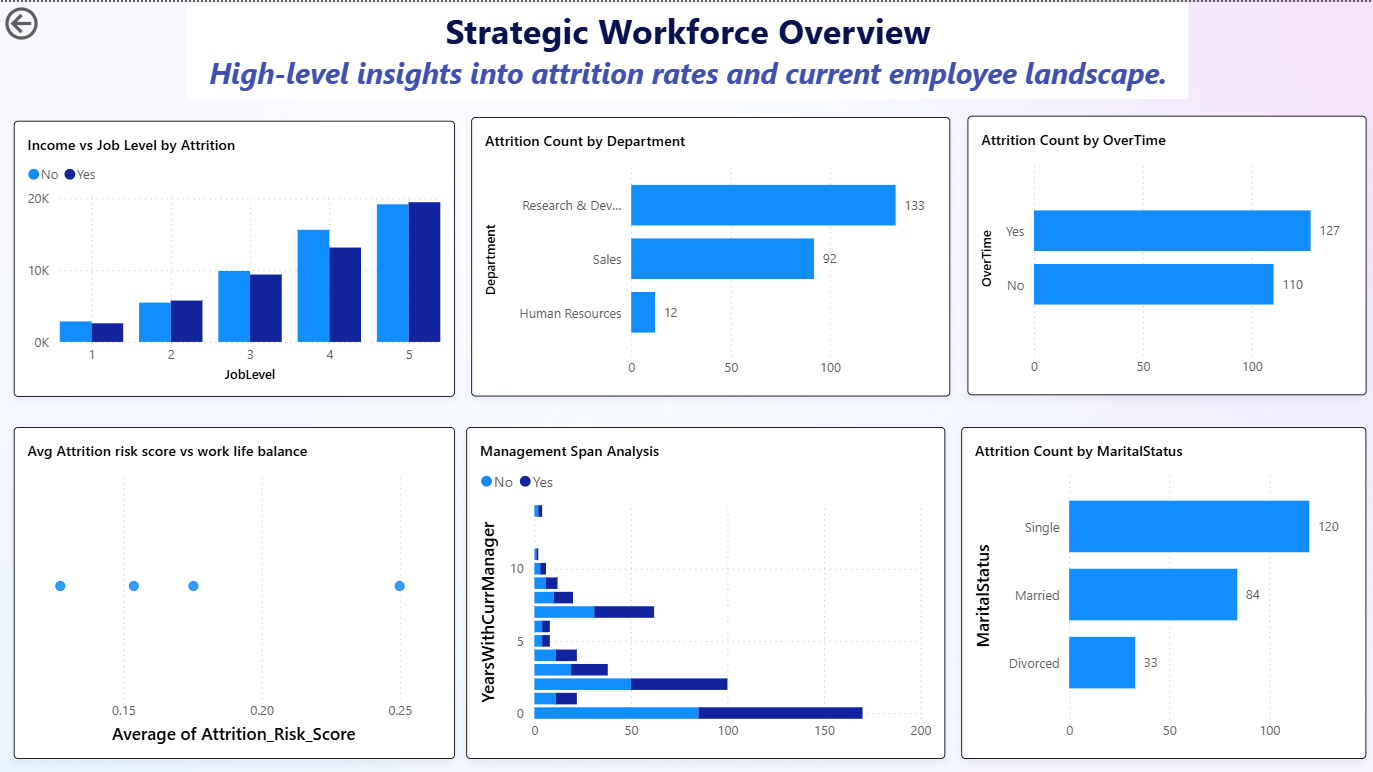

Layout of this report page (visuals, bound fields, positions):
{"tool":"powerbi","page":{"name":"Page 2","canvas":[1280,720],"ordinal":1},"visuals":[{"type":"textbox","box":[174.3,0,931.4,90],"z":0},{"type":"clusteredColumnChart","title":"Income vs Job Level by Attrition","fields":{"Category":["HR_Final_Dashboard_Data.JobLevel"],"Y":["Avg(HR_Final_Dashboard_Data.MonthlyIncome)"],"Series":["HR_Final_Dashboard_Data.Attrition"]},"box":[12.9,110,410,257.1],"z":1000},{"type":"scatterChart","title":"Avg Attrition risk score vs work life balance ","fields":{"Category":["HR_Final_Dashboard_Data.WorkLifeBalance"],"X":["Avg(HR_Final_Dashboard_Data.Attrition_Risk_Score)"]},"box":[12.9,395.7,410,308.6],"z":2000},{"type":"actionButton","box":[0,0,100,40],"z":3000},{"type":"barChart","fields":{"Category":["HR_Final_Dashboard_Data.MaritalStatus Hierarchy.MaritalStatus","HR_Final_Dashboard_Data.MaritalStatus Hierarchy.Gender","HR_Final_Dashboard_Data.MaritalStatus Hierarchy.Age"],"Y":["HR_Final_Dashboard_Data.Attrition Count"]},"box":[894.3,395.7,377.1,308.6],"z":4000},{"type":"barChart","fields":{"Category":["HR_Final_Dashboard_Data.Work Pressure.WorkLifeBalance","HR_Final_Dashboard_Data.Work Pressure.OverTime","HR_Final_Dashboard_Data.Work Pressure.DistanceFromHome"],"Y":["HR_Final_Dashboard_Data.Attrition Count"]},"box":[900,105.7,371.4,260],"z":5000},{"type":"barChart","title":"Management Span Analysis","fields":{"Category":["HR_Final_Dashboard_Data.Management Span.YearsWithCurrManager","HR_Final_Dashboard_Data.Management Span.YearsAtCompany","HR_Final_Dashboard_Data.Management Span.PerformanceRating"],"Y":["HR_Final_Dashboard_Data.Attrition Count"],"Series":["HR_Final_Dashboard_Data.Attrition"]},"box":[434.3,395.7,445.7,308.6],"z":6000},{"type":"barChart","fields":{"Category":["HR_Final_Dashboard_Data.Department Hierarchy.Department","HR_Final_Dashboard_Data.Department Hierarchy.JobRole","HR_Final_Dashboard_Data.Department Hierarchy.Employee ID"],"Y":["HR_Final_Dashboard_Data.Attrition Count"]},"box":[438.6,107.1,445.7,260],"z":7000}]}

Visuals, with their boxes in screenshot pixels (x1, y1, x2, y2), scaled from the page's 1280x720 canvas onto the 1373x772 screenshot:
textbox: 187:0:1186:96
"Income vs Job Level by Attrition" clusteredColumnChart: 14:118:454:394
"Avg Attrition risk score vs work life balance " scatterChart: 14:424:454:755
actionButton: 0:0:107:43
barChart - HR_Final_Dashboard_Data.MaritalStatus Hierarchy.MaritalStatus x HR_Final_Dashboard_Data.MaritalStatus Hierarchy.Gender: 959:424:1364:755
barChart - HR_Final_Dashboard_Data.Work Pressure.WorkLifeBalance x HR_Final_Dashboard_Data.Work Pressure.OverTime: 965:113:1364:392
"Management Span Analysis" barChart: 466:424:944:755
barChart - HR_Final_Dashboard_Data.Department Hierarchy.Department x HR_Final_Dashboard_Data.Department Hierarchy.JobRole: 470:115:949:394
